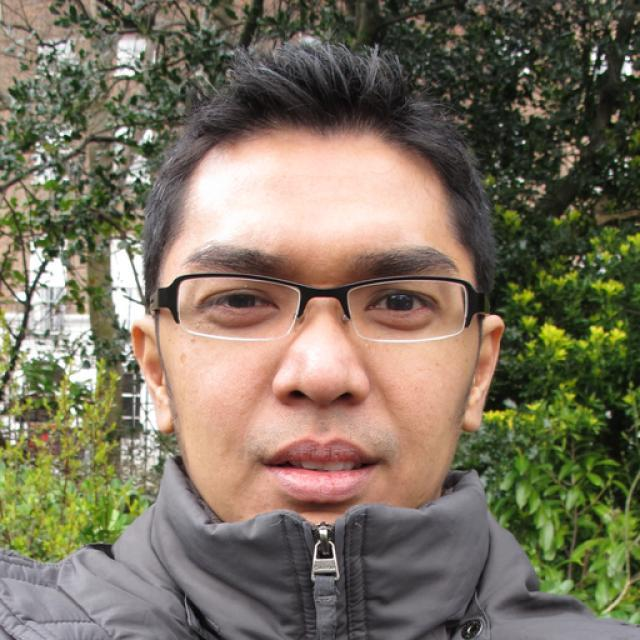disgust: (155, 123, 478, 563)
